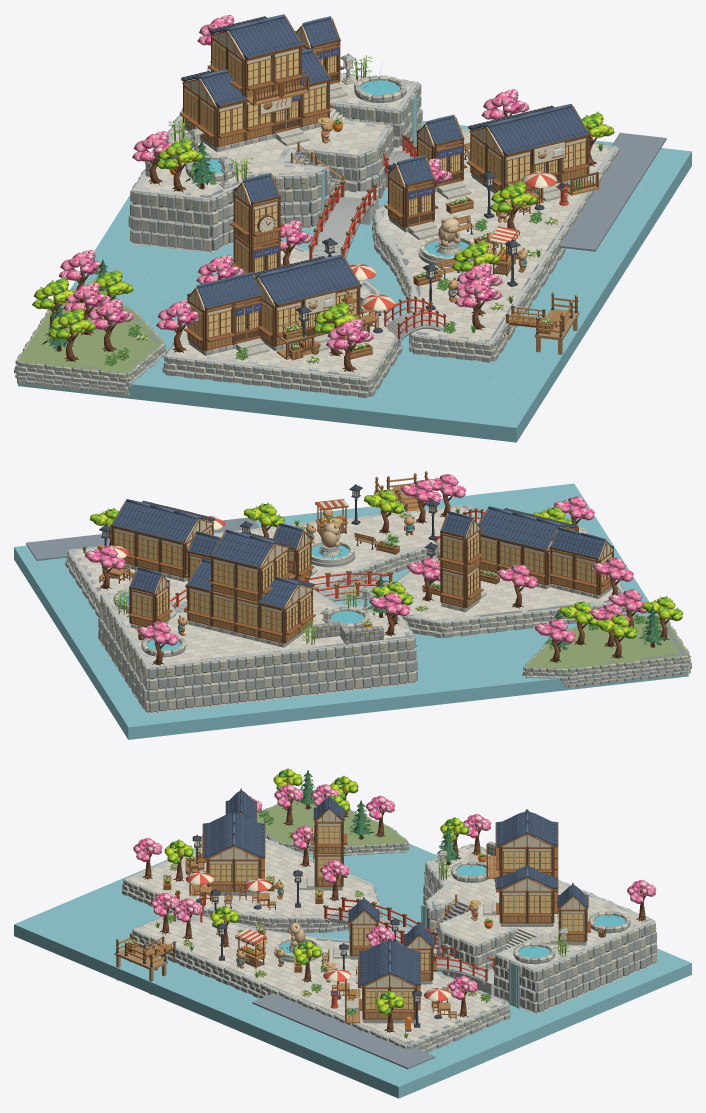
Rendered from Town_blockout.glb.
3 views of the same model, one above another, from view 1: azimuth 30°, elevation 25°; view 2: azimuth 150°, elevation 25°; view 3: azimuth 270°, elevation 25° (orthographic). The views are drawn at different scales.
Parts seen in each view (by area): view 1: Continuous_river_basin, Paving_2, Paving_1, Paving_0, Entry_road, Background_woodland, Onsen_terrace, Central_plaza, Central_bridge_L201_150, Cafe_district, Onsen_terrace_cliff_L204_276, West_bridge_L201_149 (+70 smaller); view 2: Continuous_river_basin, Paving_2, Paving_1, Paving_0, Background_woodland, Onsen_terrace, Central_plaza, Cafe_district, Entry_road, Onsen_terrace_cliff_L204_273, Onsen_terrace_cliff_L204_266, Onsen_terrace_cliff_L204_270 (+84 smaller); view 3: Continuous_river_basin, Paving_1, Paving_2, Paving_0, Central_plaza, Entry_road, Onsen_terrace, Cafe_district, Background_woodland, Central_bridge_L201_150, East_bridge_L201_151, Clock_tower_B101_47 (+46 smaller).
Boxes of the visible parts, x1,y1,x2,y2 form: Continuous_river_basin: (18,121,691,442); Paving_2: (145,75,602,372); Paving_1: (141,78,609,376); Paving_0: (153,76,606,374); Entry_road: (559,132,666,251); Background_woodland: (18,284,163,389); Onsen_terrace: (132,69,418,251); Central_plaza: (376,129,616,361); Central_bridge_L201_150: (308,180,377,259); Cafe_district: (166,244,395,396); Onsen_terrace_cliff_L204_276: (183,193,211,252); West_bridge_L201_149: (383,296,446,342); Continuous_river_basin: (14,483,688,739); Paving_2: (74,508,618,661); Paving_1: (77,507,612,663); Paving_0: (82,509,600,663); Background_woodland: (525,616,688,677); Onsen_terrace: (101,589,414,712); Central_plaza: (68,504,479,607); Cafe_district: (397,528,623,637); Entry_road: (26,517,259,560); Onsen_terrace_cliff_L204_273: (387,635,416,686); Onsen_terrace_cliff_L204_266: (200,657,229,707); Onsen_terrace_cliff_L204_270: (308,644,336,695); Continuous_river_basin: (14,843,691,1098); Paving_1: (128,842,640,1042); Paving_2: (136,845,634,1041); Paving_0: (138,849,642,1038); Central_plaza: (133,912,508,1048); Entry_road: (252,993,435,1069); Onsen_terrace: (426,843,655,1012); Cafe_district: (124,838,380,931); Background_woodland: (257,800,407,852); Central_bridge_L201_150: (323,896,437,945); East_bridge_L201_151: (433,944,495,984); Clock_tower_B101_47: (316,821,341,854).
Size of the model in its own units: 52.48 by 11.97 by 52.33.
Materials: 61 (49 with a texture image).
